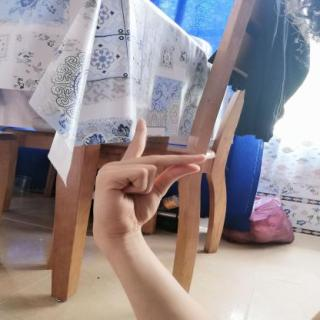TAA: (82, 112, 212, 245)
